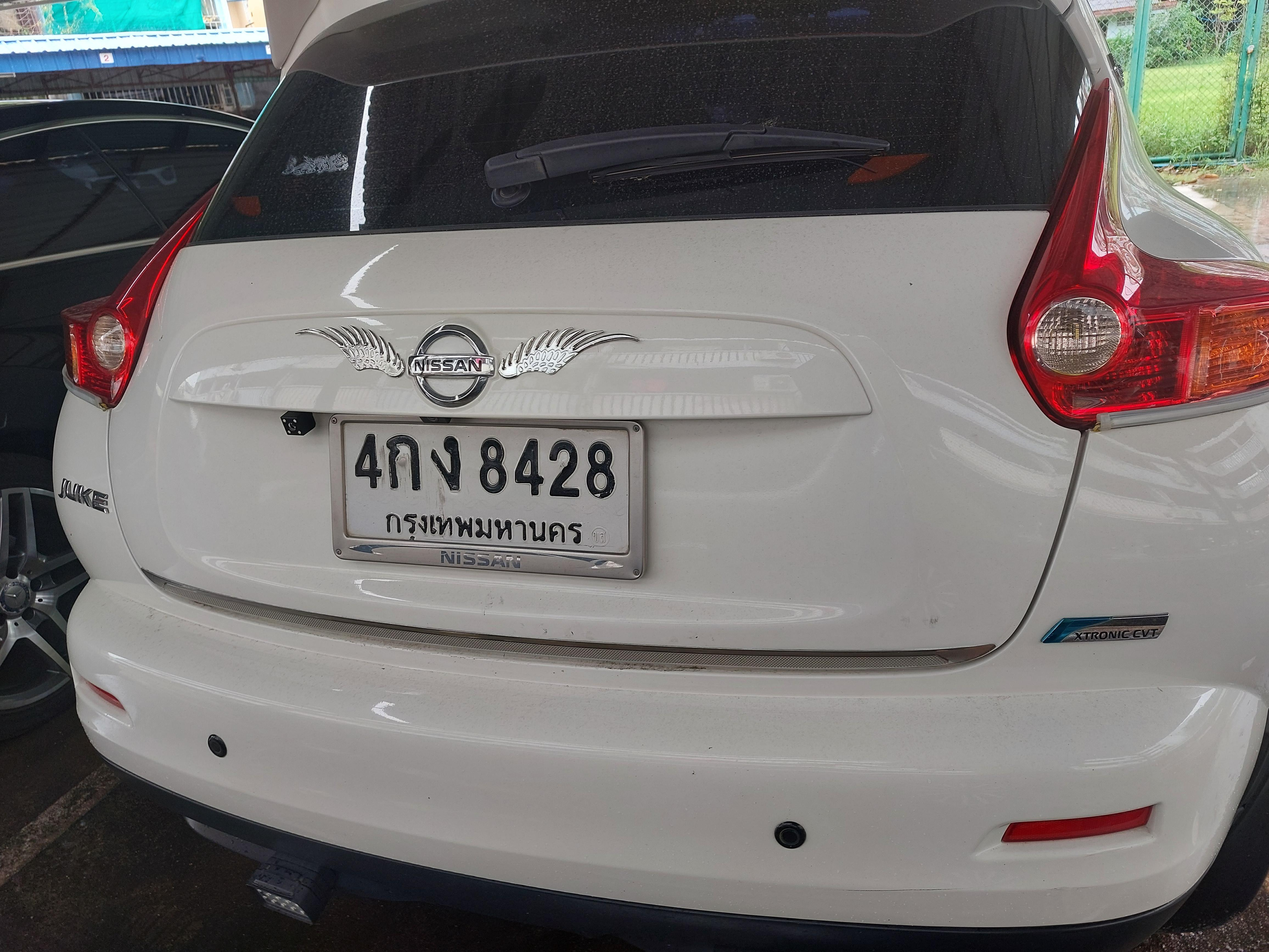license-plate: (328, 408, 648, 586)
